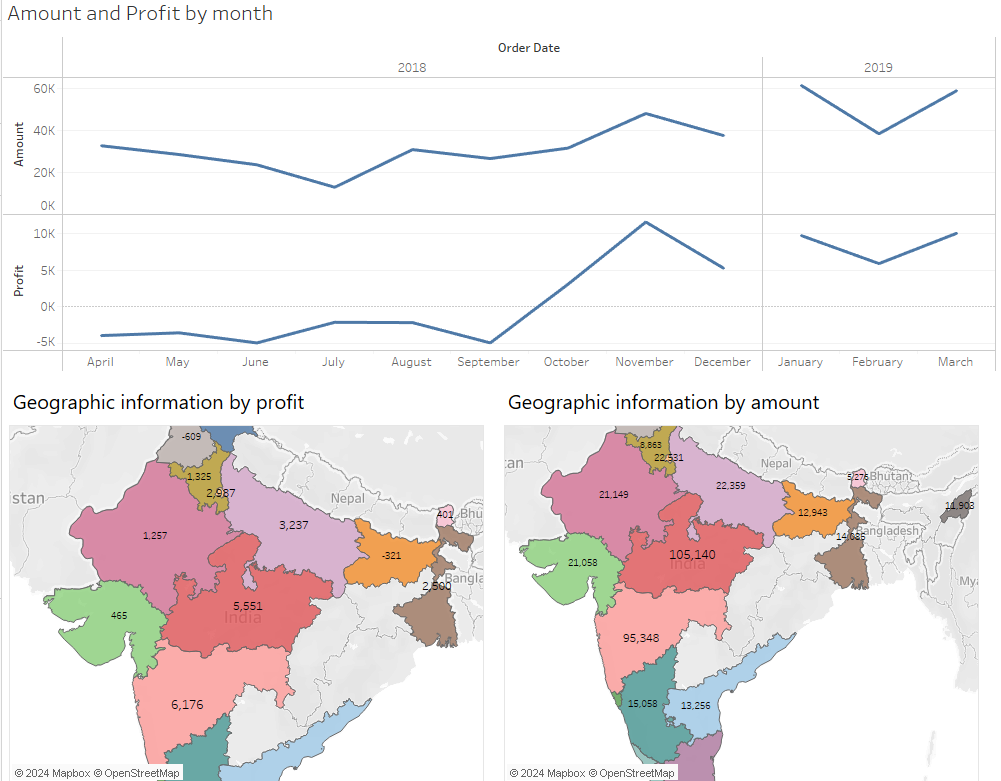

What the dashboard file says about the page in this screenshot:
{"tool":"tableau","page":{"name":"Dashboard 2","canvas":[1000,800],"ordinal":1},"visuals":[{"type":"worksheet","title":"Sheet 3","mark":"Automatic","rows":["Amount","Profit"],"cols":["Order Date","Order Date"],"box":[1,0,993,378]},{"type":"worksheet","title":"Sheet 5","mark":"Multipolygon","box":[7,389,475,400]},{"type":"worksheet","title":"Sheet 4","mark":"Multipolygon","box":[502,389,475,400]}]}

Visuals, with their boxes in screenshot pixels (x1, y1, x2, y2), scaled from the page's 1000x800 canvas onto the 1001x781 screenshot:
"Sheet 3" worksheet: [left=1, top=0, right=995, bottom=369]
"Sheet 5" worksheet (Multipolygon marks): [left=7, top=380, right=482, bottom=770]
"Sheet 4" worksheet (Multipolygon marks): [left=503, top=380, right=978, bottom=770]
